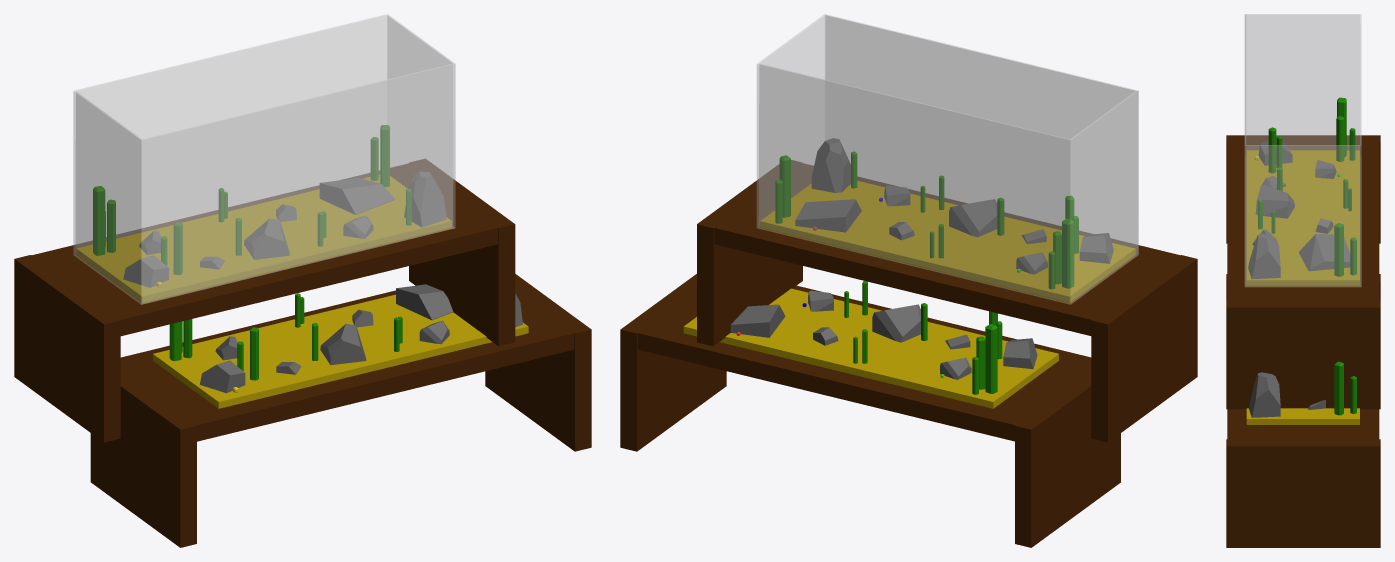
Rendered from FishTankv5_ft.glb.
3 views of the same model, side by side, from view 1: azimuth 30°, elevation 25°; view 2: azimuth 150°, elevation 25°; view 3: azimuth 270°, elevation 25° (orthographic). The views are drawn at different scales.
Visible parts, largest first — view 1: FishTank, mergedBaked, Table, Sand, Foot1.001, Foot1, Rock.001, Rock.007, Rock, Rock.002, Grass.004; view 2: FishTank, mergedBaked, Table, Sand, Foot1.001, Foot1, Rock.007, Rock.001, Rock, Rock.002, Grass.004; view 3: FishTank, mergedBaked, Foot1, Sand, Table, Foot1.001, Rock.001, Rock.007, Rock, Grass.007, Rock.002, Grass.012 (+7 smaller).
Part boxes in pixels (x1=…): FishTank: x1=73, y1=14, x2=455, y2=304; mergedBaked: x1=90, y1=274, x2=591, y2=547; Table: x1=32, y1=163, x2=497, y2=336; Sand: x1=76, y1=175, x2=451, y2=303; Foot1.001: x1=14, y1=255, x2=120, y2=442; Foot1: x1=409, y1=159, x2=515, y2=346; Rock.001: x1=320, y1=178, x2=394, y2=214; Rock.007: x1=404, y1=172, x2=446, y2=227; Rock: x1=244, y1=218, x2=289, y2=259; Rock.002: x1=123, y1=255, x2=168, y2=287; Grass.004: x1=93, y1=186, x2=105, y2=255; FishTank: x1=757, y1=14, x2=1138, y2=304; mergedBaked: x1=620, y1=274, x2=1120, y2=547; Table: x1=714, y1=163, x2=1179, y2=335; Sand: x1=760, y1=181, x2=1135, y2=303; Foot1.001: x1=1091, y1=255, x2=1197, y2=442; Foot1: x1=697, y1=160, x2=802, y2=346; Rock.007: x1=811, y1=138, x2=850, y2=192; Rock.001: x1=795, y1=199, x2=861, y2=232; Rock: x1=949, y1=199, x2=997, y2=237; Rock.002: x1=1079, y1=233, x2=1113, y2=263; Grass.004: x1=1062, y1=218, x2=1074, y2=288; FishTank: x1=1244, y1=14, x2=1361, y2=286; mergedBaked: x1=1226, y1=274, x2=1380, y2=547; Foot1: x1=1226, y1=300, x2=1380, y2=409; Sand: x1=1246, y1=150, x2=1359, y2=286; Table: x1=1227, y1=142, x2=1379, y2=300; Foot1.001: x1=1226, y1=135, x2=1380, y2=243; Rock.001: x1=1299, y1=234, x2=1350, y2=271; Rock.007: x1=1248, y1=233, x2=1280, y2=279; Rock: x1=1255, y1=185, x2=1294, y2=218; Grass.007: x1=1334, y1=223, x2=1343, y2=276; Rock.002: x1=1258, y1=138, x2=1292, y2=165; Grass.012: x1=1268, y1=127, x2=1276, y2=173.
Bounding box in the file's own units: 248 × 198 × 79.11.
